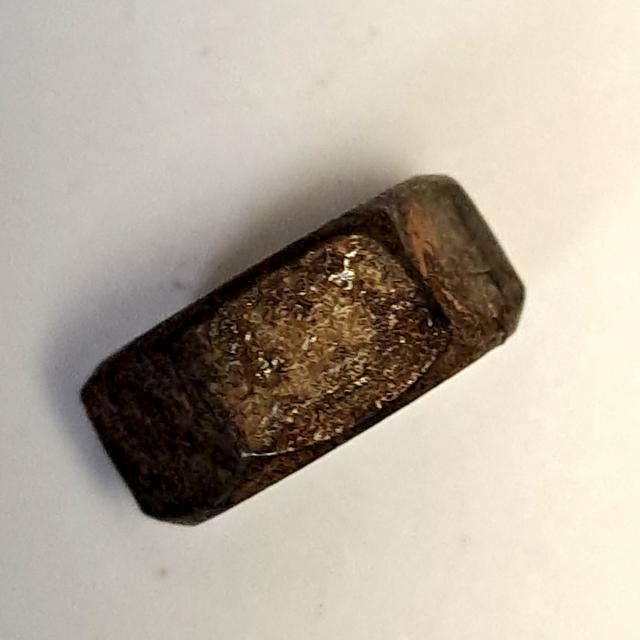Side_Rust: (64, 164, 539, 537)
